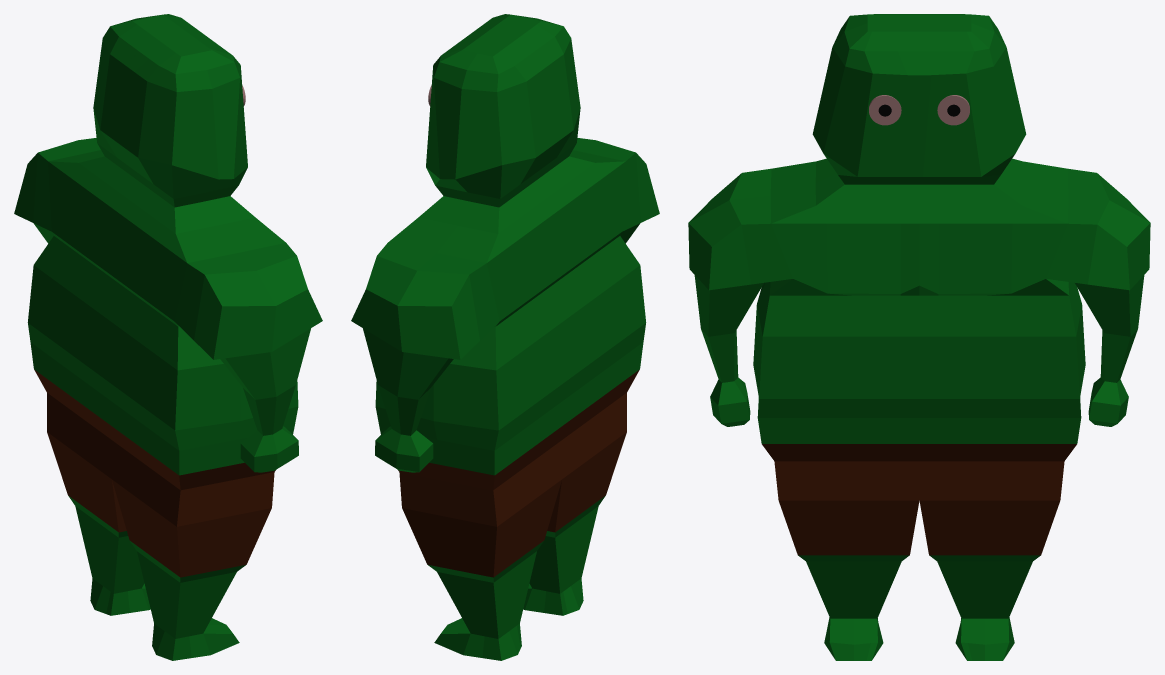
The model's file is goblinstein.fbx.
The picture shows the model from 3 angles, left to right: view 1: azimuth 30°, elevation 25°; view 2: azimuth 150°, elevation 25°; view 3: azimuth 270°, elevation 25°; orthographic projection. The views are drawn at different scales.
Visible parts, largest first — view 1: Cube; view 2: Cube; view 3: Cube.
Part boxes in pixels (box(x1,y1,x2,y2)): Cube: box(14, 14, 322, 660); Cube: box(351, 14, 659, 660); Cube: box(688, 14, 1150, 660).
Bounding box in the file's own units: 364 × 1622 × 1089.
